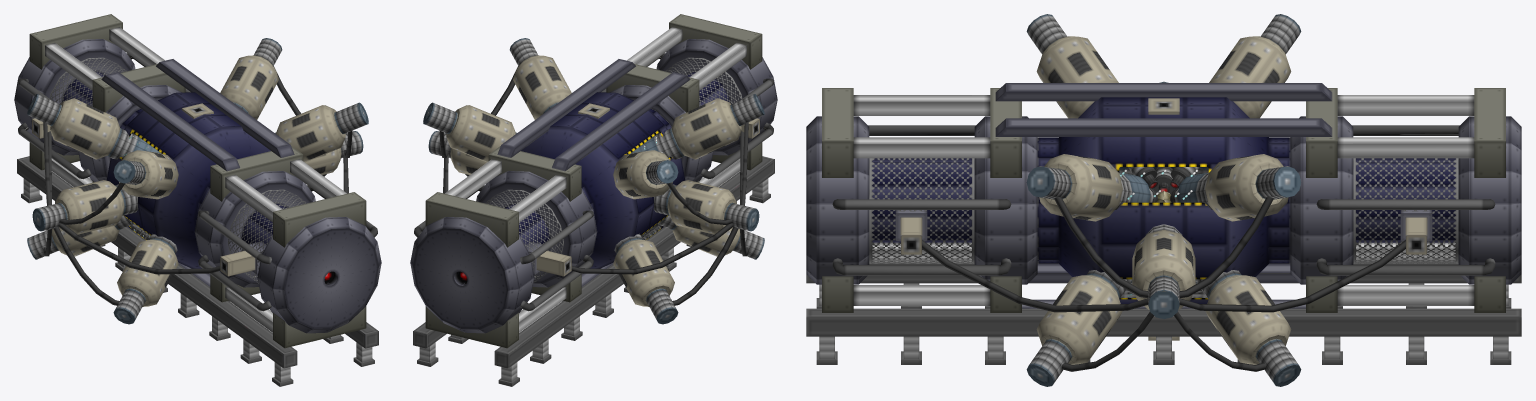
The model's file is icf.obj.
3 renders of one model, left to right at view 1: azimuth 30°, elevation 25°; view 2: azimuth 150°, elevation 25°; view 3: azimuth 270°, elevation 25°, orthographic. The views are drawn at different scales.
Visible parts, largest first — view 1: Circle; view 2: Circle; view 3: Circle.
Boxes of the visible parts, left/top/right/bottom form: Circle: left=14, top=14, right=381, bottom=386; Circle: left=410, top=14, right=777, bottom=386; Circle: left=806, top=14, right=1521, bottom=386.
Size of the model in its own units: 11.75 by 6.37 by 17.
